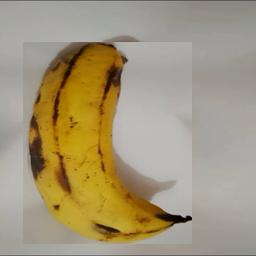Banana Semifresh: (23, 42, 192, 244)
